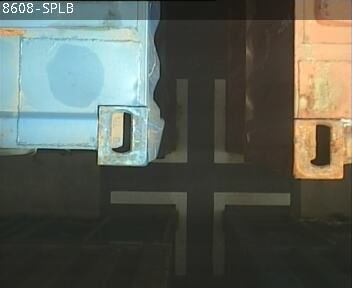groundmarker_1: (108, 192, 292, 273), (154, 80, 251, 164)
